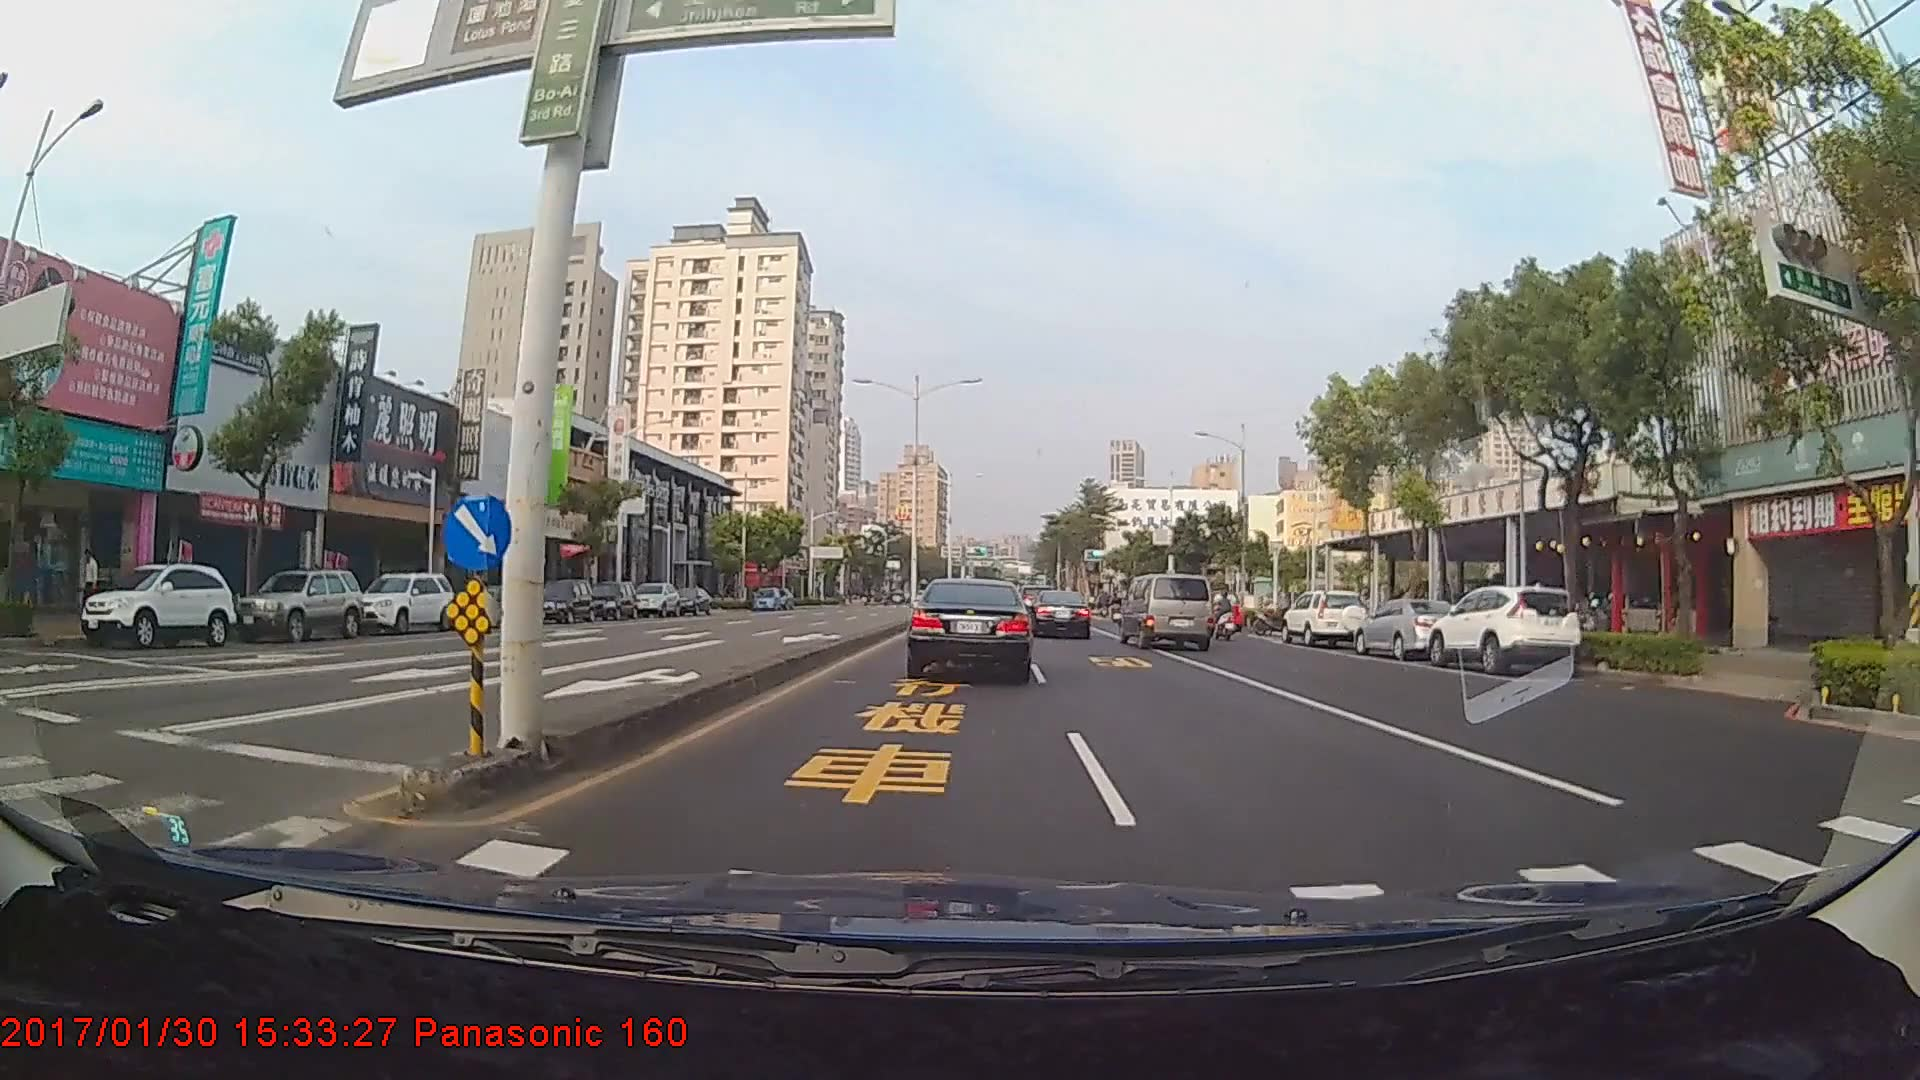pedestrian: (83, 552, 103, 620)
rider: (1211, 591, 1242, 642)
vehicle: (1425, 583, 1585, 677), (77, 564, 234, 648), (907, 578, 1032, 676), (235, 569, 362, 644), (1118, 573, 1213, 651), (1354, 597, 1469, 660), (353, 571, 457, 633), (1281, 590, 1368, 648), (1027, 589, 1091, 639), (531, 578, 597, 625), (588, 582, 639, 621), (630, 580, 682, 620), (669, 585, 713, 615), (751, 583, 781, 609)
